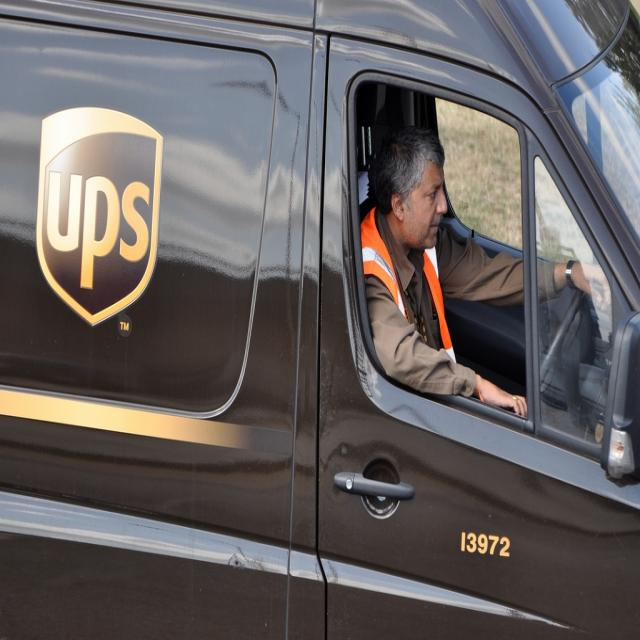ups: (36, 105, 167, 329)
